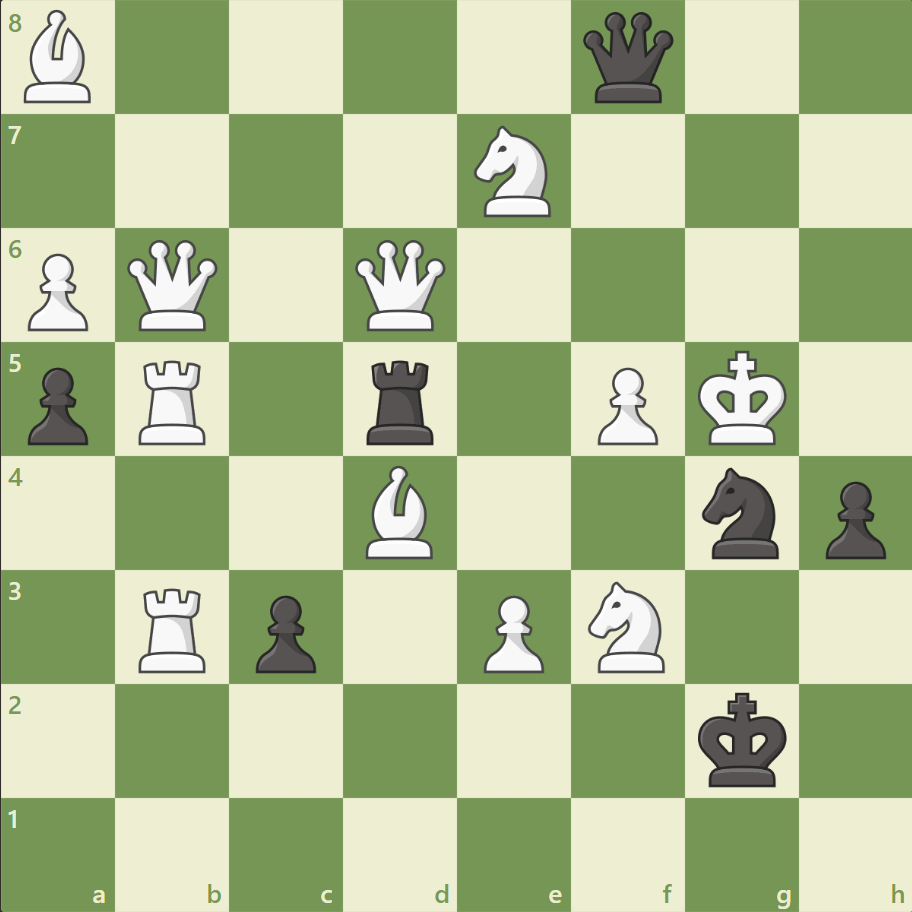B: (17, 6, 101, 109), (358, 460, 442, 563)
K: (692, 344, 792, 452)
N: (465, 121, 562, 223), (579, 575, 676, 677)
P: (20, 246, 95, 337), (474, 586, 549, 677), (588, 359, 662, 450)
Q: (124, 236, 223, 335), (351, 236, 450, 335)
R: (133, 352, 215, 449), (133, 579, 215, 676)
k: (692, 685, 792, 793)
n: (692, 461, 789, 564)
p: (20, 359, 95, 450), (247, 586, 322, 677), (815, 473, 889, 564)
q: (578, 9, 677, 108)
r: (360, 352, 442, 449)
